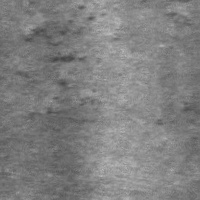rolled-in_scale: (21, 3, 98, 65), (44, 76, 100, 121), (152, 100, 200, 127)
